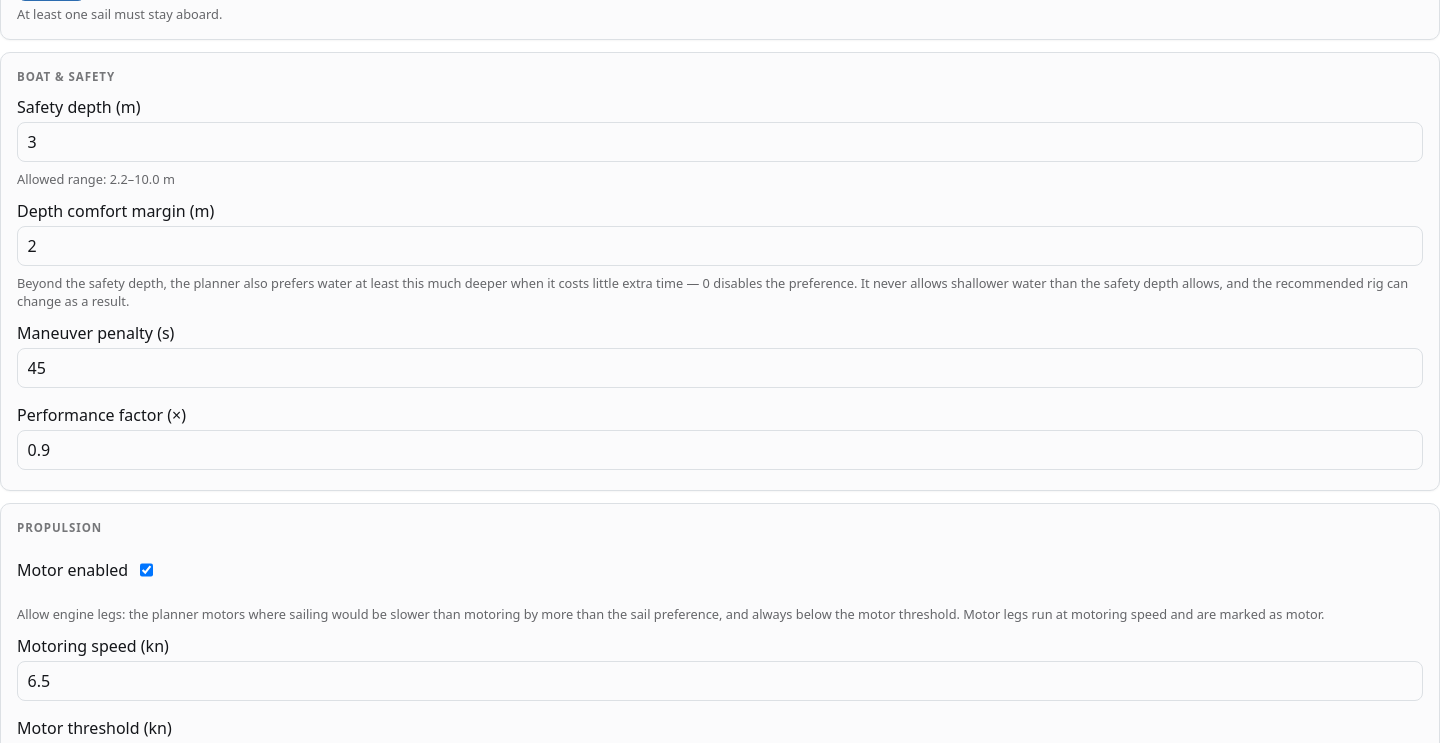
Test case: SettingsPanel (#299 Boat tab) › Boat & safety group › falls back to the last committed value when maneuver penalty is blurred empty
(page scrolled)
Clear the number field labelled "Maneuver penalty (s)" at (720, 368), box [17,348,1423,388]
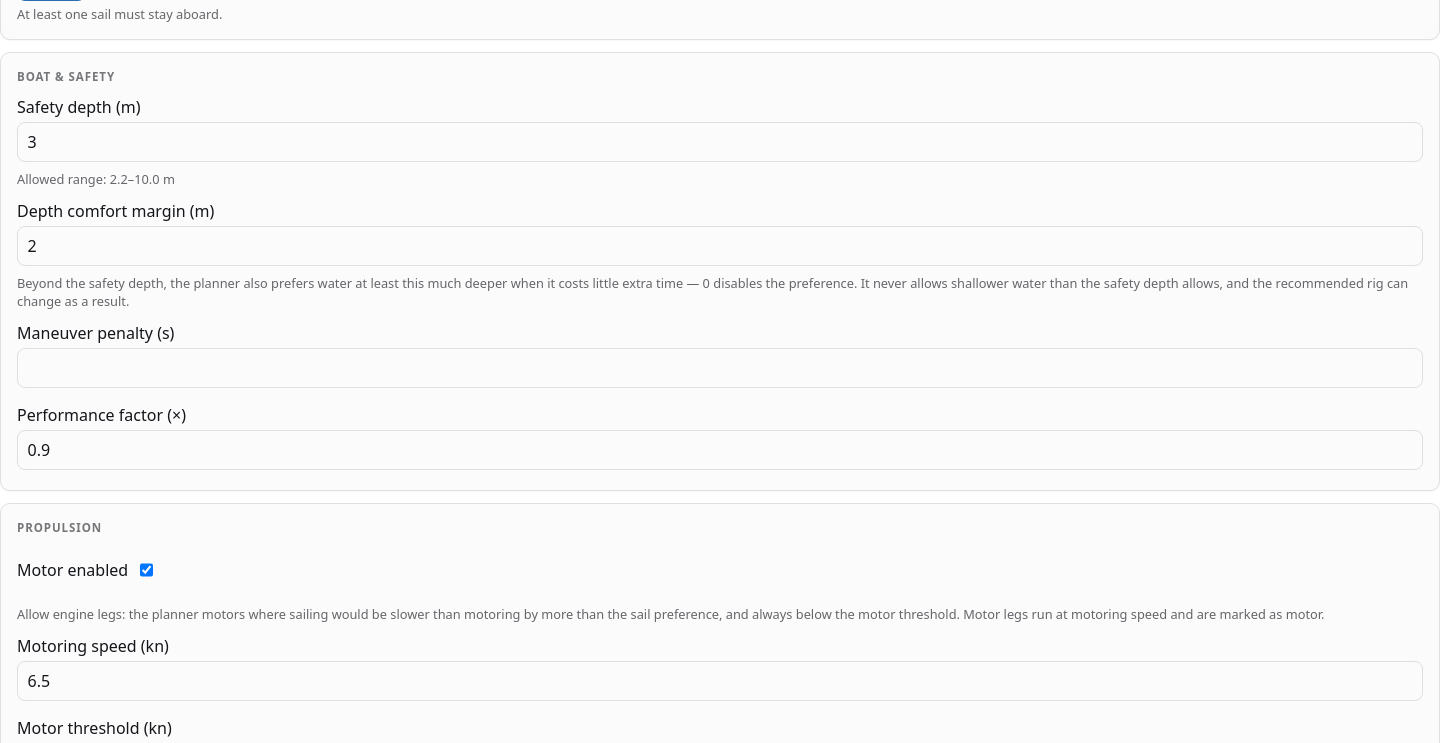
Leave the number field labelled "Maneuver penalty (s)", box [17,348,1423,388]
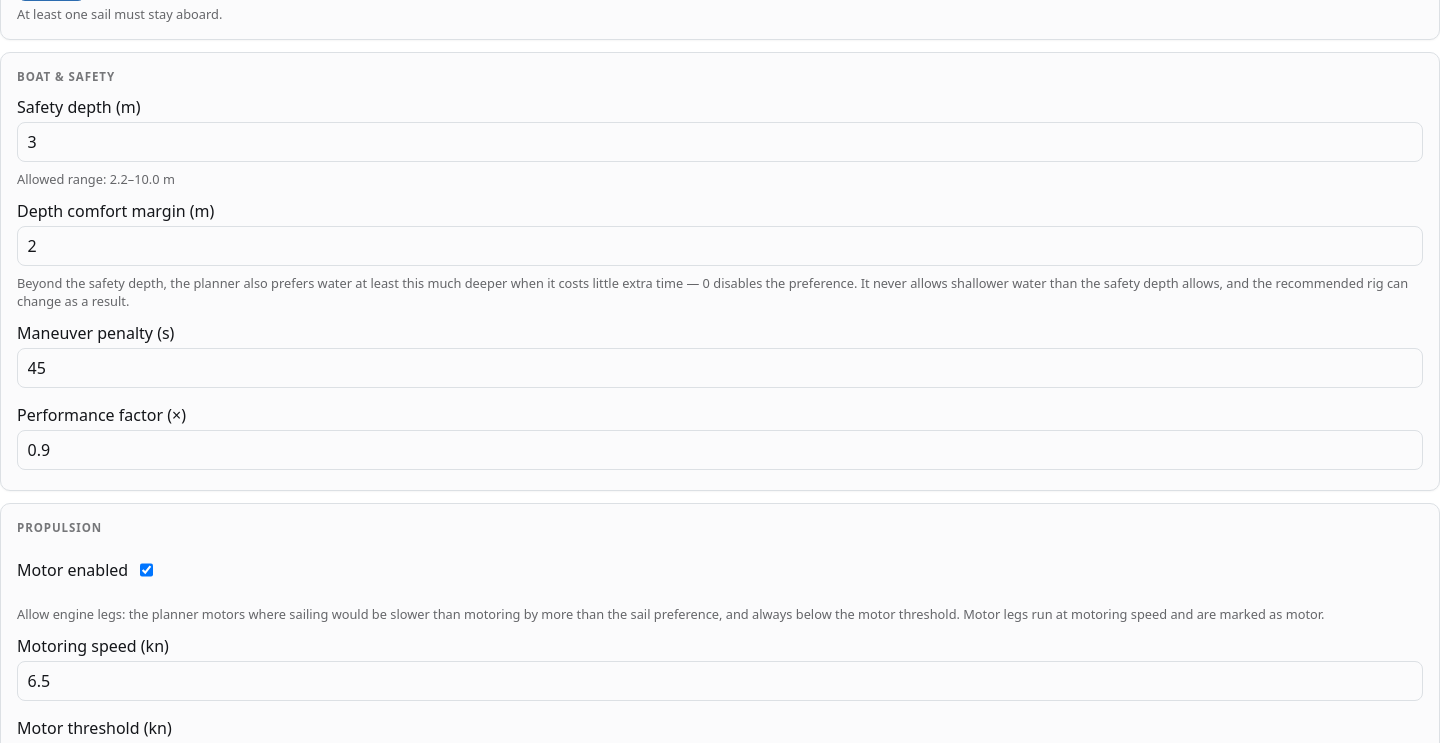
Check: the number field labelled "Maneuver penalty (s)" holds "45", box [17,348,1423,388]
